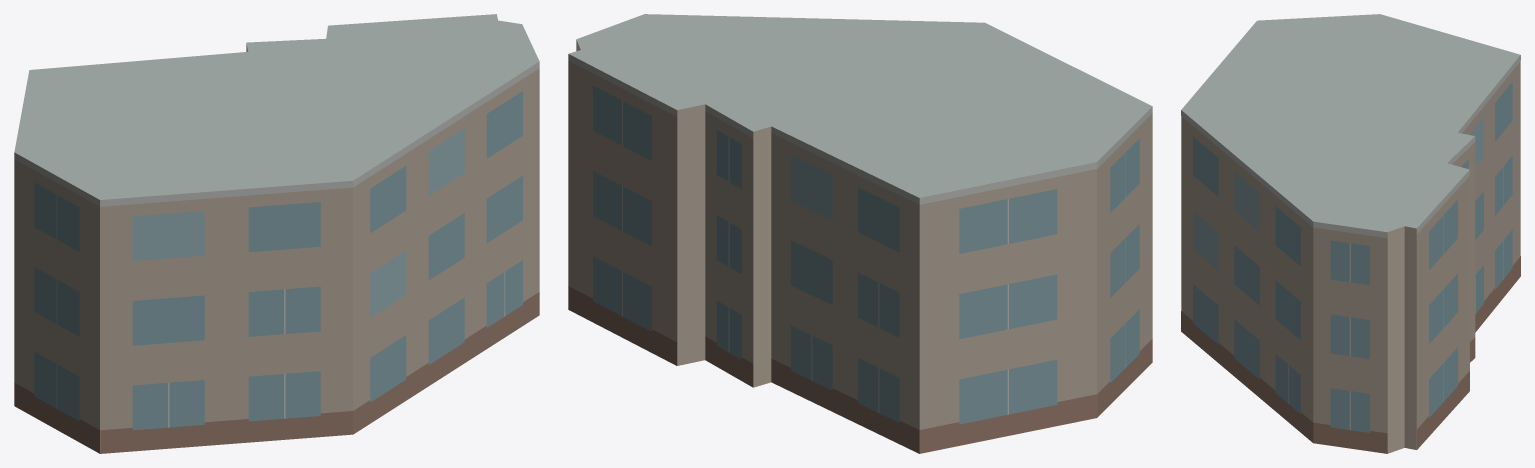
File: survey-upis-32981098.glb
3 views of the same model, side by side, from view 1: azimuth 30°, elevation 25°; view 2: azimuth 150°, elevation 25°; view 3: azimuth 270°, elevation 25° (orthographic). The views are drawn at different scales.
Visible parts, largest first — view 1: survey-upis-32981098.tmp; view 2: survey-upis-32981098.tmp; view 3: survey-upis-32981098.tmp.
Part boxes in pixels (<box>): survey-upis-32981098.tmp: <box>14,14,539,453</box>; survey-upis-32981098.tmp: <box>568,14,1152,453</box>; survey-upis-32981098.tmp: <box>1181,14,1520,453</box>.
Size of the model in its own units: 19.34 by 9.15 by 12.72.
